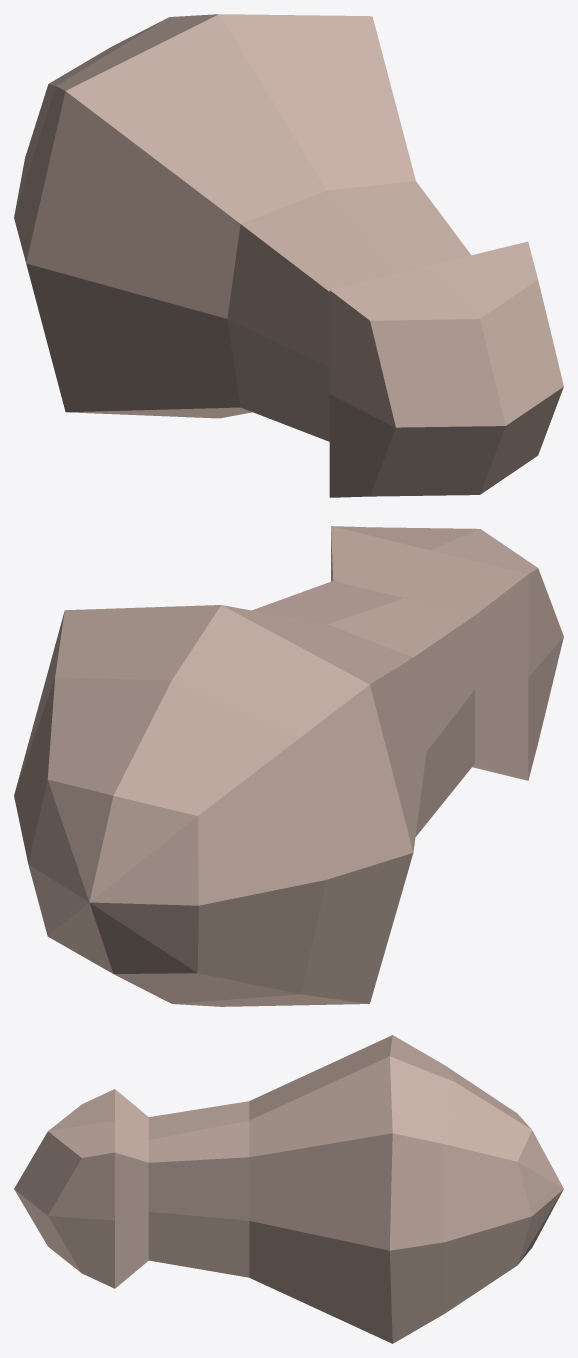
File: Raw Drumstick.fbx
The picture shows the model from 3 angles, top to bottom: view 1: azimuth 30°, elevation 25°; view 2: azimuth 150°, elevation 25°; view 3: azimuth 270°, elevation 25°; orthographic projection. The views are drawn at different scales.
Parts seen in each view (by area): view 1: Raw Drumstick; view 2: Raw Drumstick; view 3: Raw Drumstick.
Part boxes in pixels (box(x1,y1,x2,y2)): Raw Drumstick: box(14, 14, 563, 497); Raw Drumstick: box(14, 526, 563, 1006); Raw Drumstick: box(14, 1035, 563, 1343).
Bounding box in the file's own units: 7.76 × 7.76 × 14.59.
